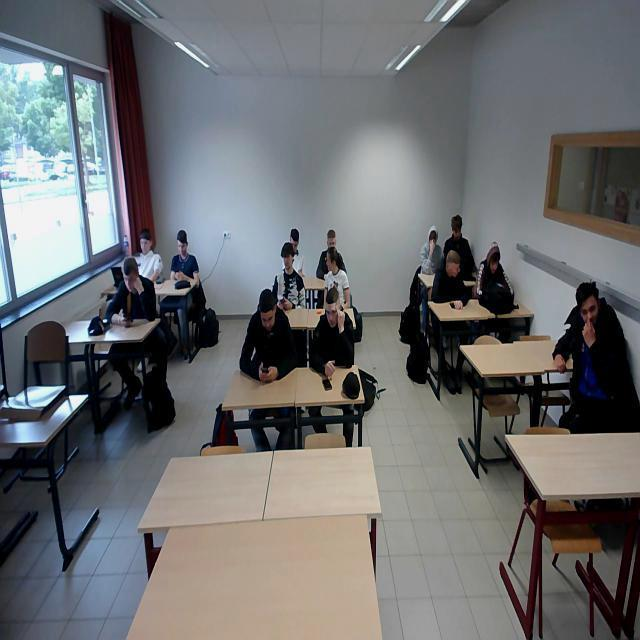Looking away: (324, 288, 340, 328), (448, 252, 461, 280), (140, 231, 151, 255)
Looking forward: (576, 282, 602, 331), (280, 242, 294, 272)
Phone use: (239, 288, 296, 382), (106, 258, 156, 328), (477, 243, 518, 300), (443, 216, 481, 276), (168, 230, 202, 290)
Turning around: (324, 252, 350, 308)
